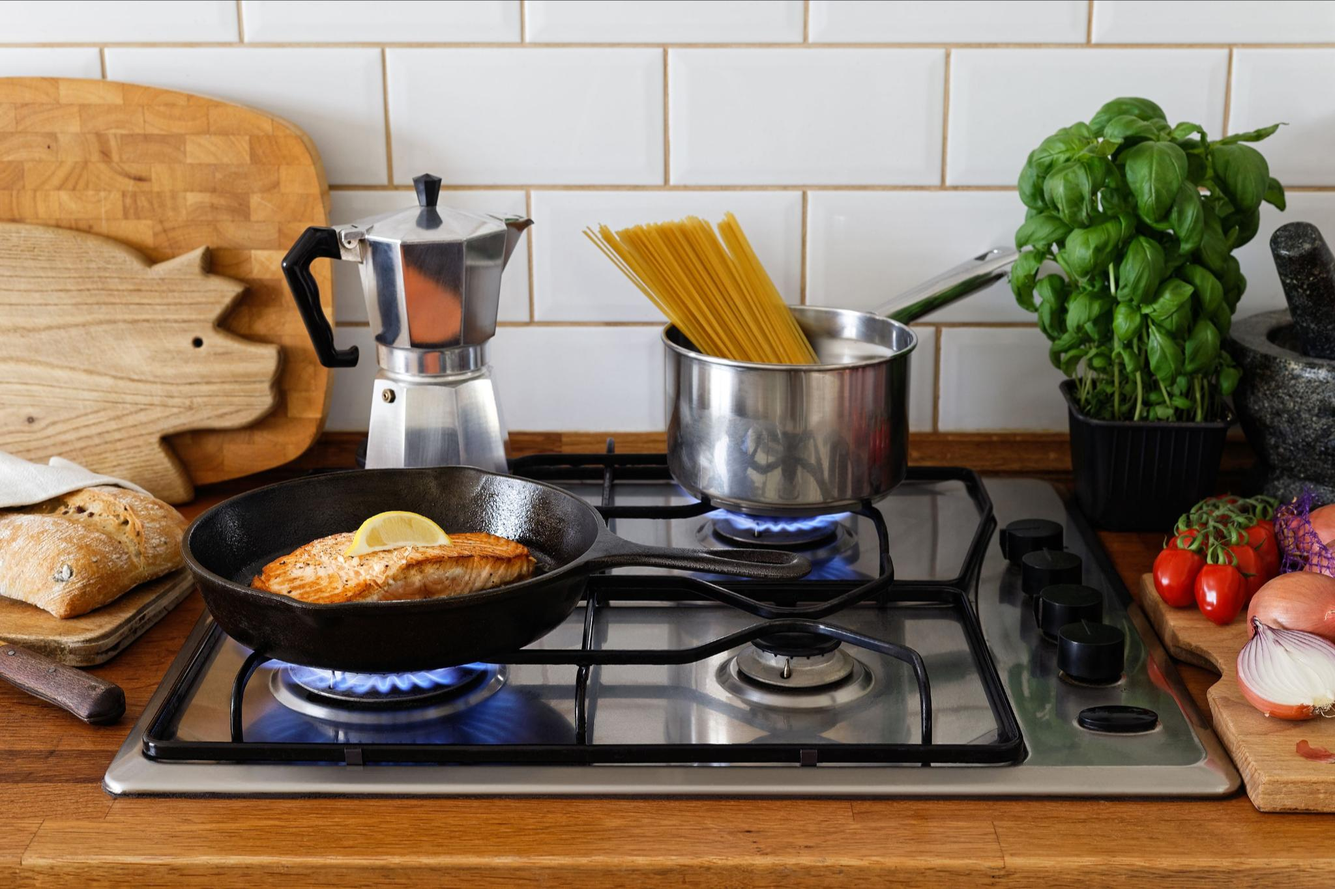controlled_fire: (231, 600, 500, 728), (670, 432, 876, 565)
